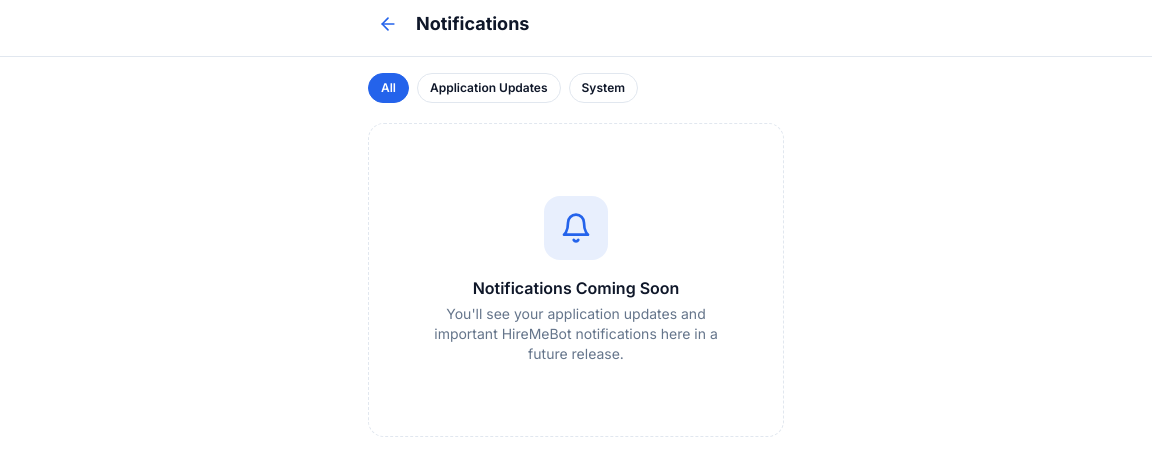
Test: StudentNotificationsPage › switches to System and shows that empty state
Click the tab "System" at (603, 88), box [569, 73, 638, 103]
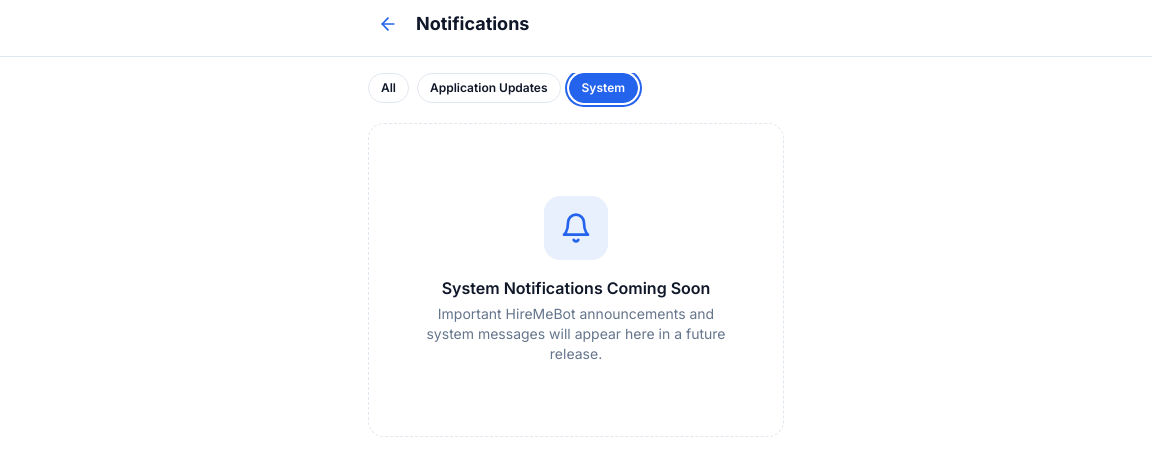
Expected: the heading "System Notifications Coming Soon" is shown, [442, 276, 710, 300]
